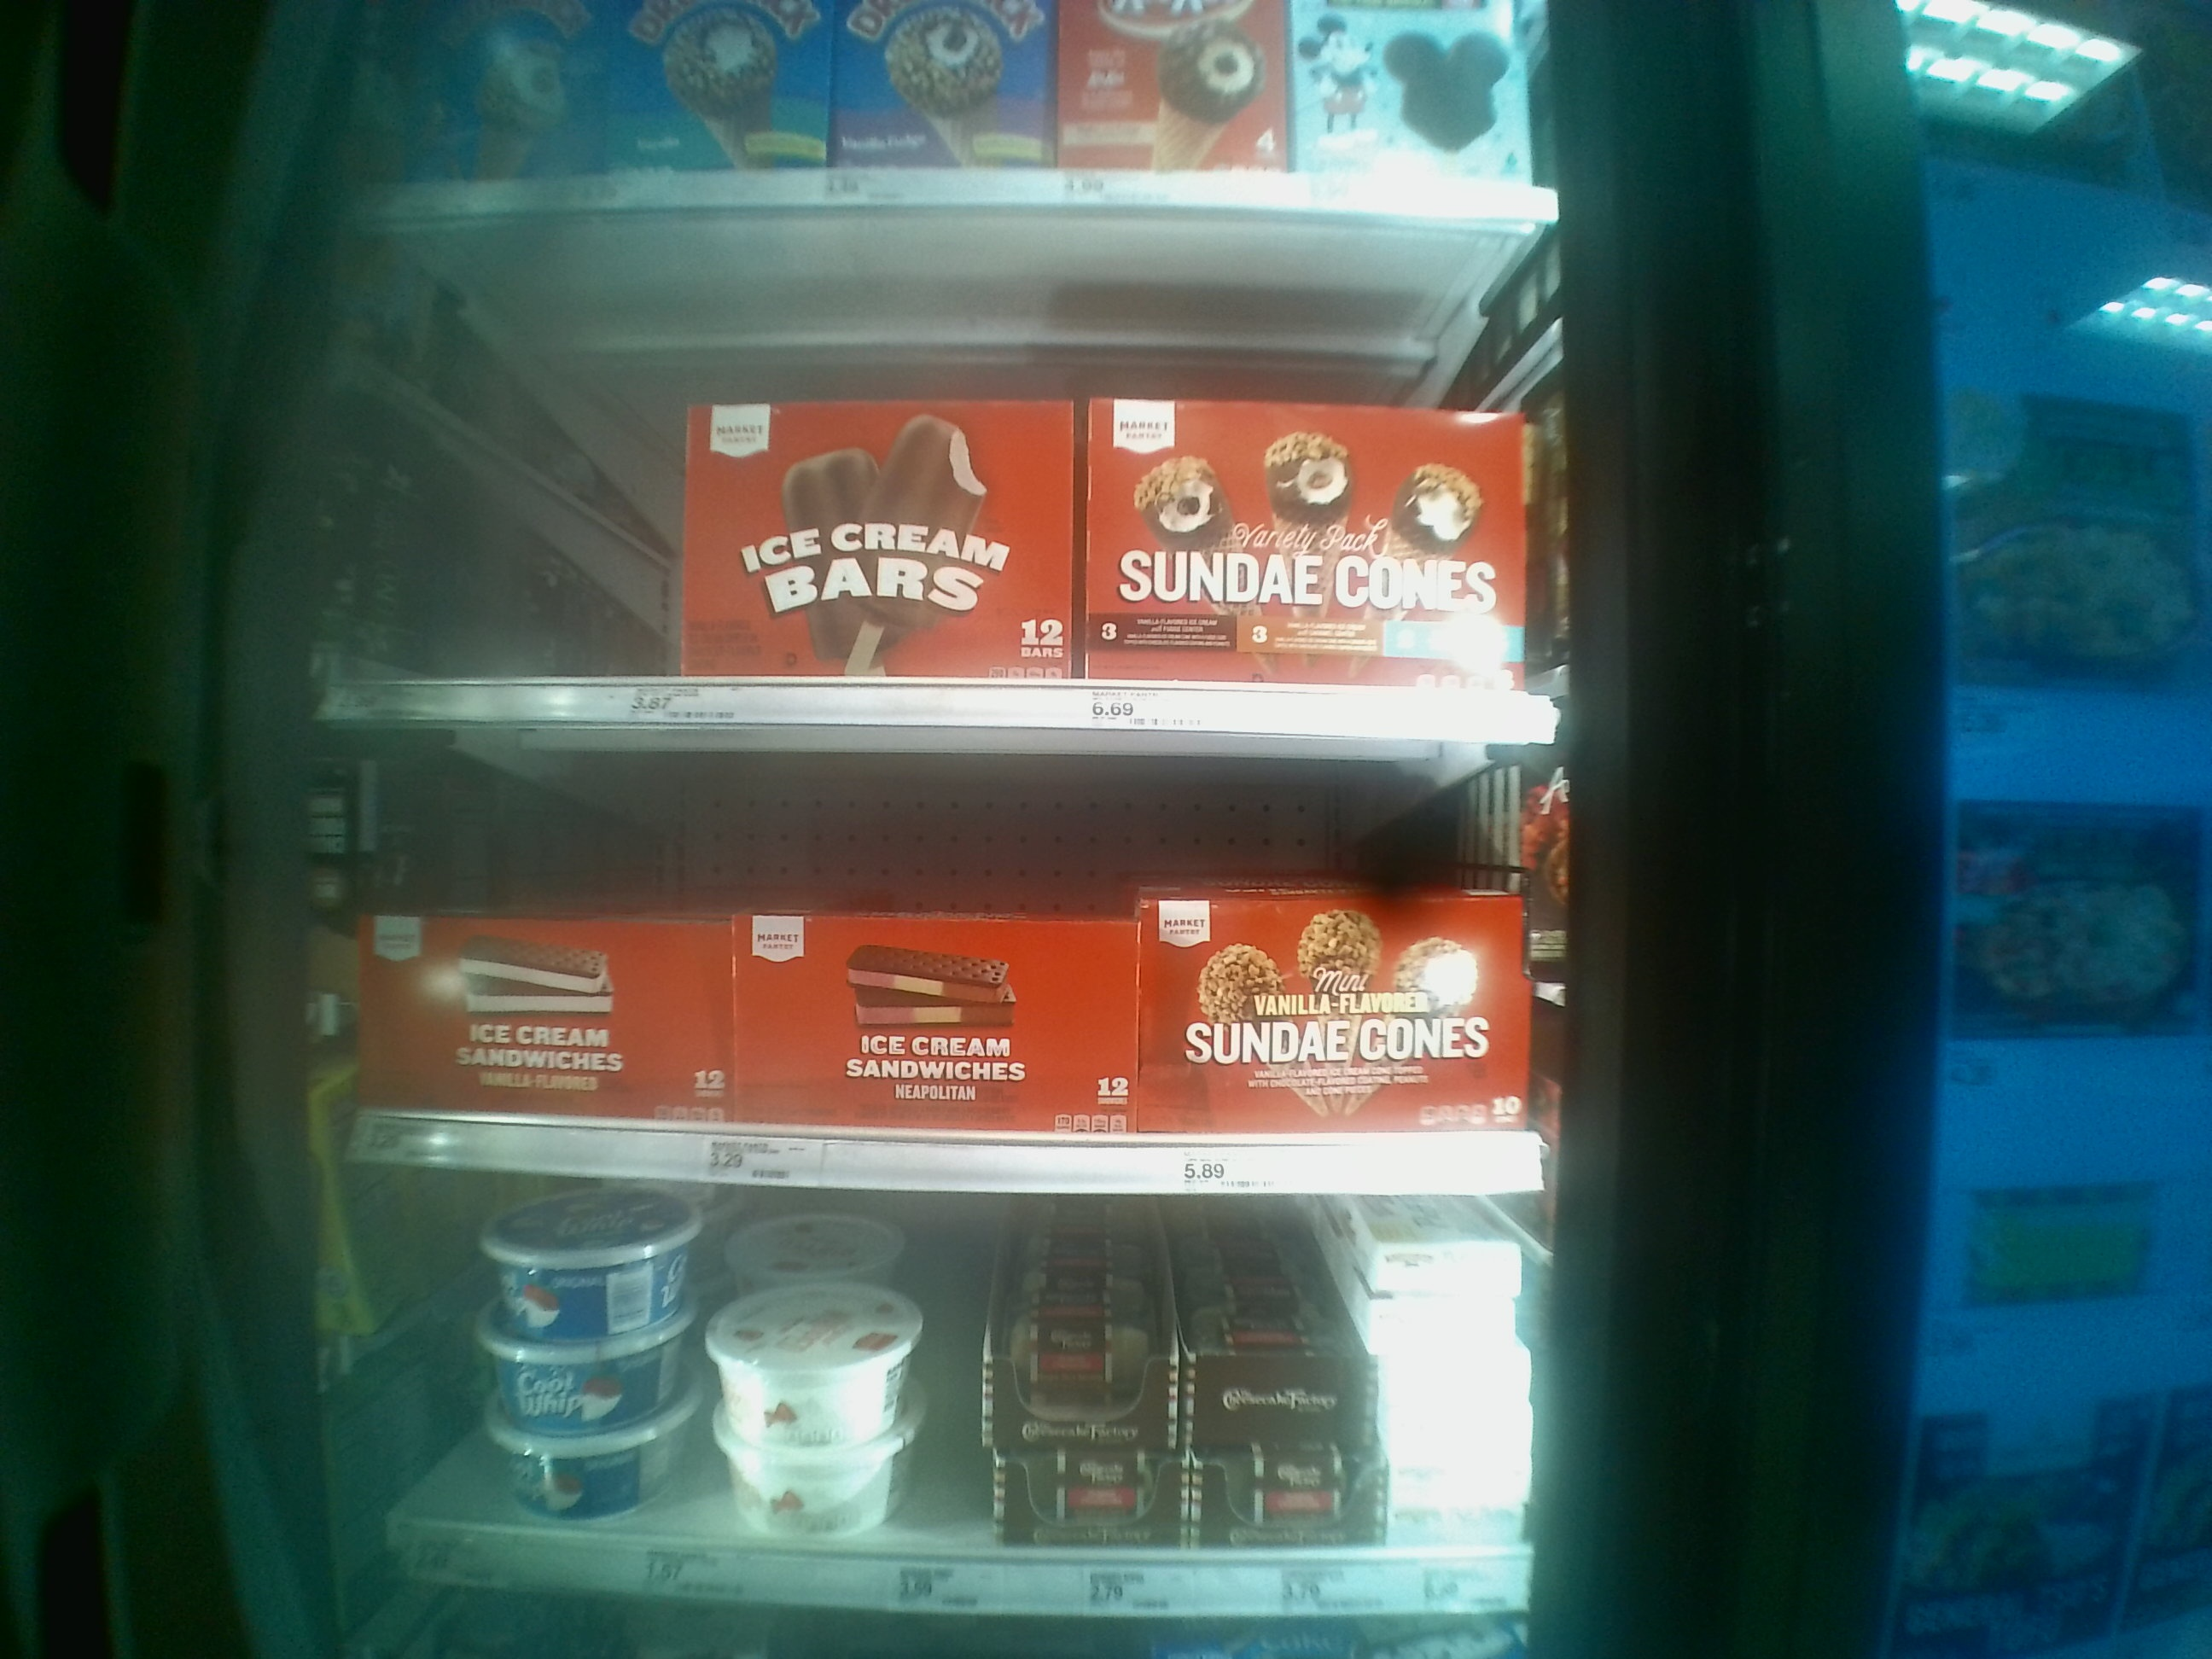shelf: (334, 199, 1581, 713), (369, 1143, 1538, 1610), (341, 727, 1545, 1175)
